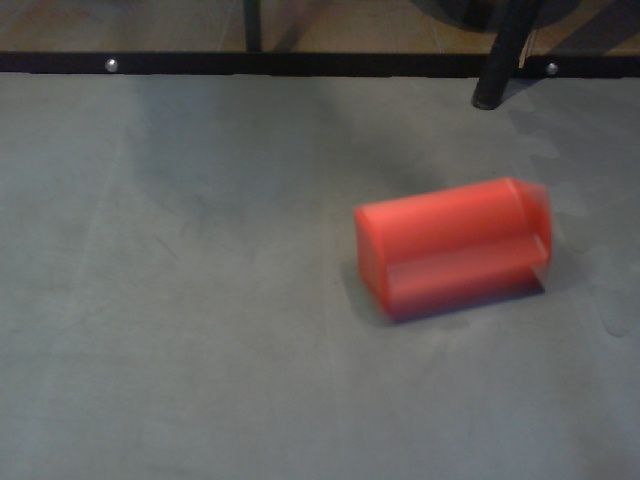RedSample: (353, 174, 553, 314)
